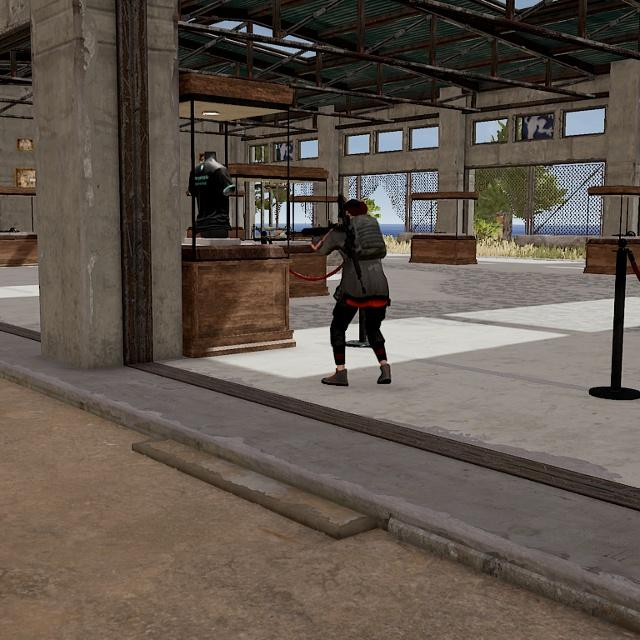head: (341, 198, 370, 228)
people: (312, 196, 406, 392)
